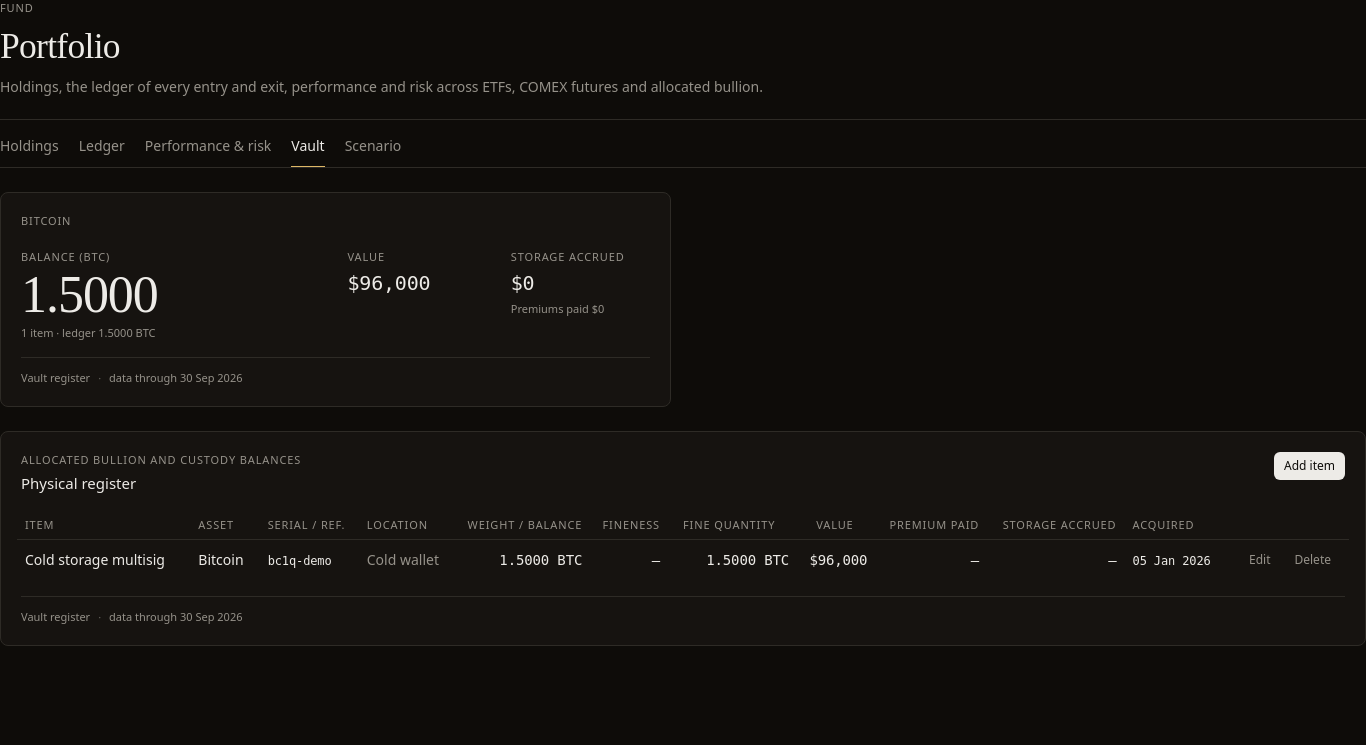
Test: vault register with a custody asset › switches the form to a balance in BTC for a custody asset
Click the button "Add item" at coordinates (1310, 466), box [1274,452,1345,480]
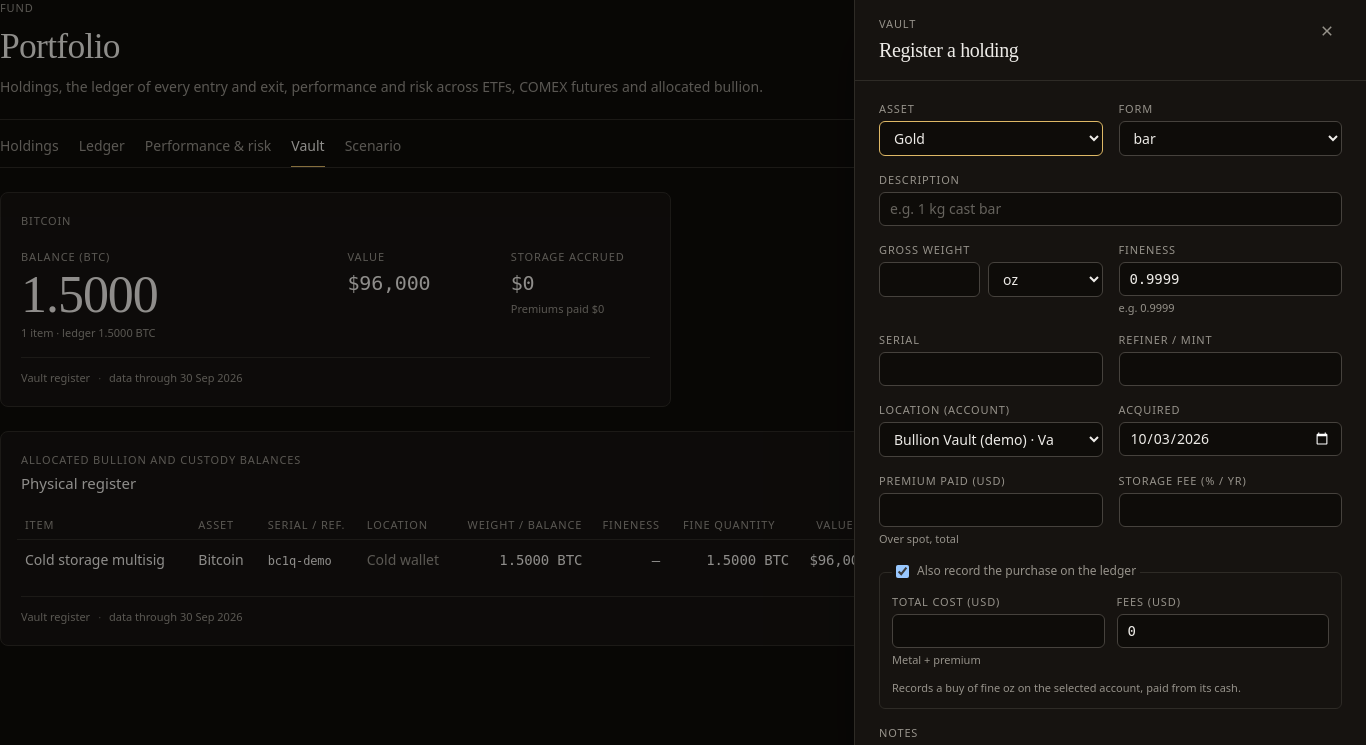
Expected: the text "Fineness" is shown, [1118,242,1176,257]
Select "Bitcoin" in the dropdown labelled "Asset" at coordinates (991, 138), box [879,121,1102,156]
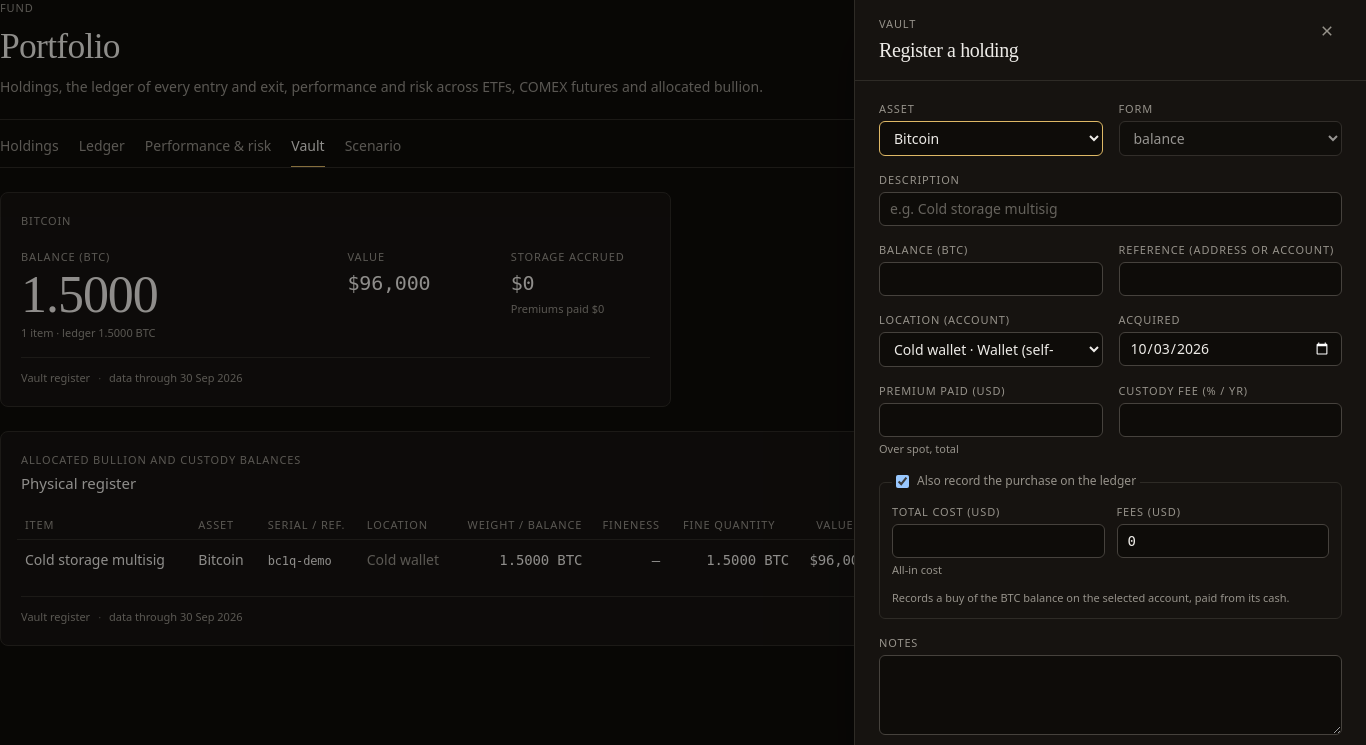
Expected: the number field labelled "Balance (BTC)" is shown, [879,262,1102,296]
Expected: the dropdown labelled "Location (account)" shows "Cold wallet · Wallet (self-custody)", [879,332,1102,367]
